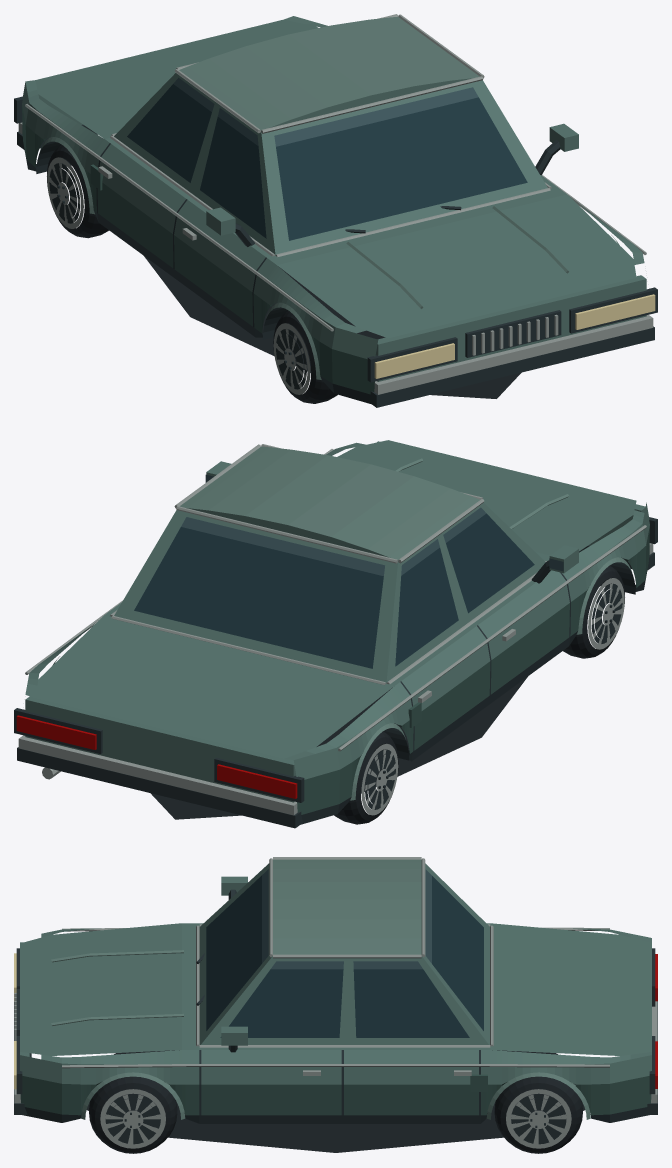
Rendered from sedan-6k.glb.
3 views of the same model, one above another, from view 1: azimuth 30°, elevation 25°; view 2: azimuth 150°, elevation 25°; view 3: azimuth 270°, elevation 25° (orthographic). The views are drawn at different scales.
Parts seen in each view (by area): view 1: sedan-6k; view 2: sedan-6k; view 3: sedan-6k.
Boxes of the visible parts, <box> form: sedan-6k: <box>14,14,657,407</box>; sedan-6k: <box>14,440,657,828</box>; sedan-6k: <box>14,857,657,1153</box>.
Size of the model in its own units: 5.4 by 3.07 by 9.4.
